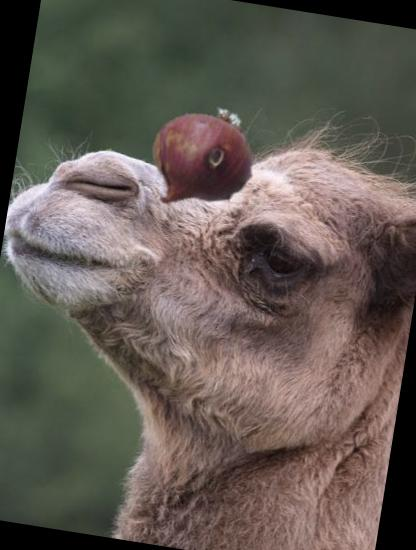Onion: (132, 85, 276, 229)
